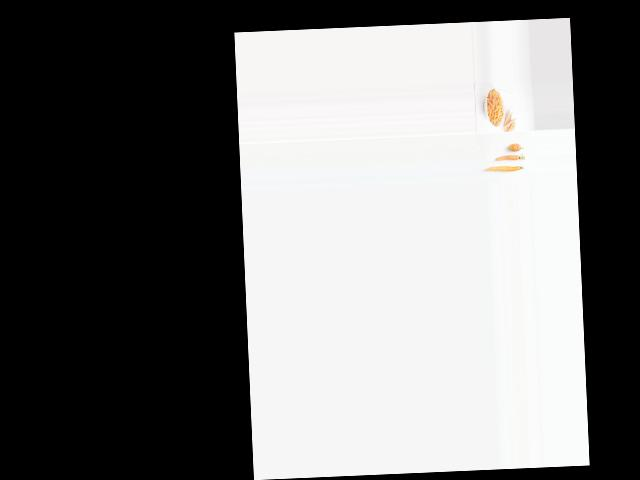carrot: (504, 142, 524, 151)
